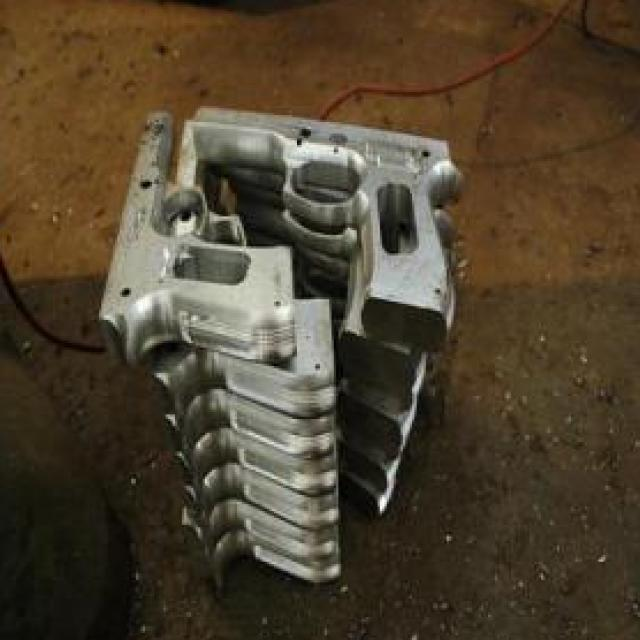pistol: (192, 101, 463, 356), (99, 108, 295, 371)
